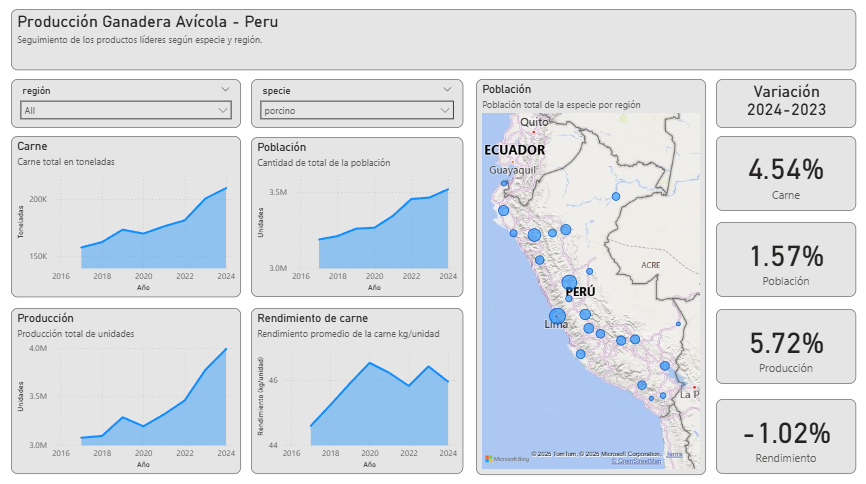

What the dashboard file says about the page in this screenshot:
{"tool":"powerbi","page":{"name":"Page 1","canvas":[1280,720],"ordinal":0},"visuals":[{"type":"lineChart","fields":{"Category":["data_page1.year"],"Y":["Sum(data_page1.carne)"]},"box":[142.5,207.2,276.2,273.3],"z":0},{"type":"tableEx","fields":{"Values":["data_page1.specie"]},"box":[70.5,0,122,194],"z":1},{"type":"tableEx","fields":{"Values":["data_page1.región"]},"box":[887.5,107.3,211.6,567.2],"z":2},{"type":"lineChart","fields":{"Y":["Sum(data_page1.poblacion)"],"Category":["data_page1.year"]},"box":[418.8,207.2,243.9,273.3],"z":3},{"type":"lineChart","fields":{"Y":["Sum(data_page1.produccion)"],"Category":["data_page1.year"]},"box":[142.5,480.5,276.2,226.3],"z":4},{"type":"lineChart","fields":{"Category":["data_page1.year"],"Y":["Sum(data_page1.rendimiento)"]},"box":[418.8,480.5,243.9,198.4],"z":5},{"type":"map","box":[902.2,22,330.6,642.1],"z":6}]}

Visuals, with their boxes in screenshot pixels (x1, y1, x2, y2), scaled from the page's 1280x720 canvas onto the 866x484 screenshot:
lineChart - data_page1.year x Sum(data_page1.carne): bbox=(96, 139, 283, 323)
tableEx - data_page1.specie: bbox=(48, 0, 130, 130)
tableEx - data_page1.región: bbox=(600, 72, 744, 453)
lineChart - Sum(data_page1.poblacion) x data_page1.year: bbox=(283, 139, 448, 323)
lineChart - Sum(data_page1.produccion) x data_page1.year: bbox=(96, 323, 283, 475)
lineChart - data_page1.year x Sum(data_page1.rendimiento): bbox=(283, 323, 448, 456)
map: bbox=(610, 15, 834, 446)
